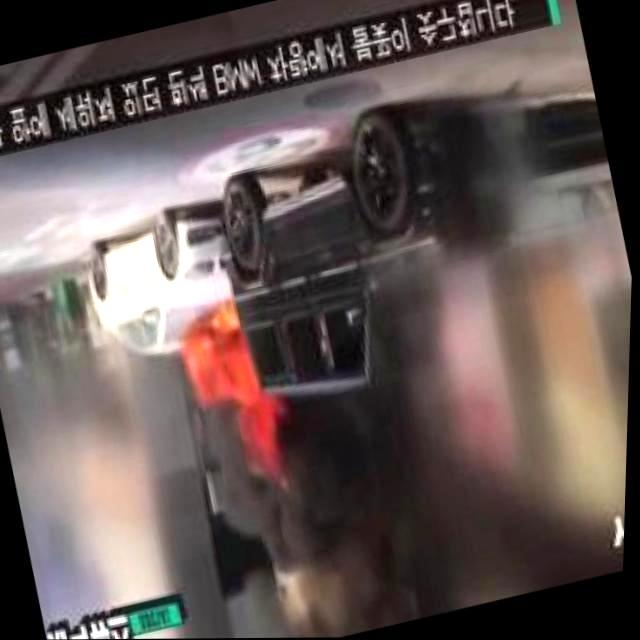fire: (178, 298, 284, 442)
